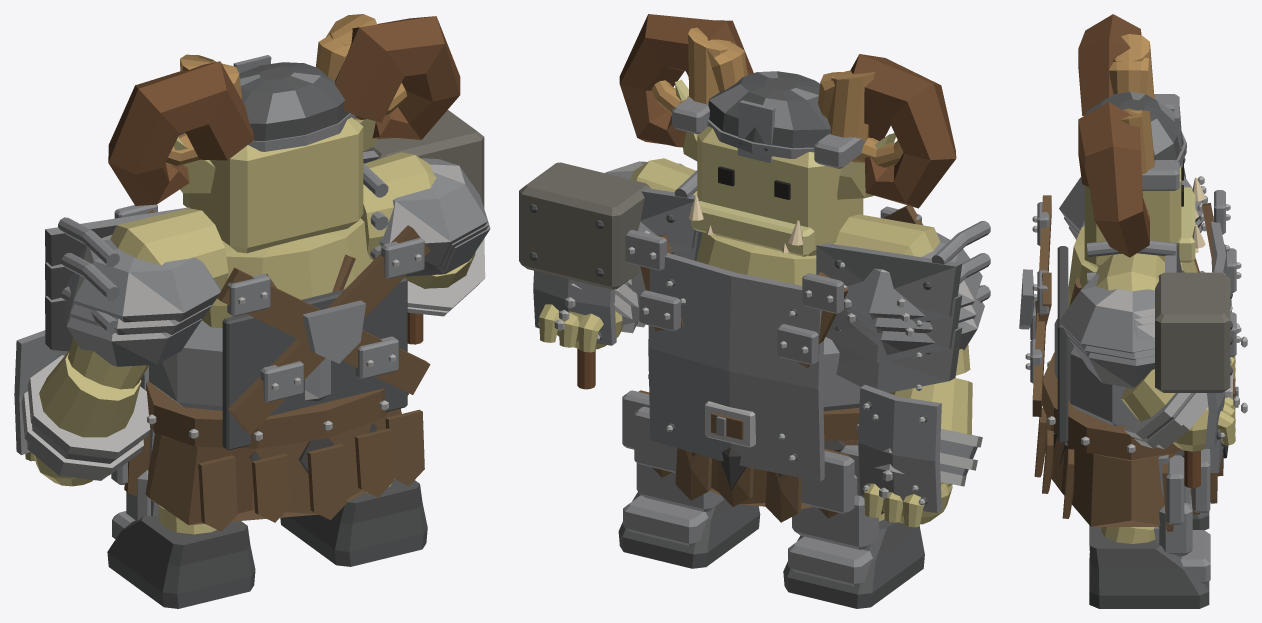
File: host_22.glb
3 views of the same model, side by side, from view 1: azimuth 30°, elevation 25°; view 2: azimuth 150°, elevation 25°; view 3: azimuth 270°, elevation 25° (orthographic). The views are drawn at different scales.
Visible parts, largest first — view 1: Observed face, Actual curled segmented ram horn, Actual curled segmented ram horn.001, Grounded boot L, V6 source contacting small rear armor plate, Connected ragged leather battle skirt, Grounded boot R, Stacked source iron pauldron L, Continuous heavy leather belt, V6 source anatomical upper arm L, V6 source anatomical thorax, V6 source fitted rounded metal cap (+38 smaller); view 2: V6 source curved fitted breastplate, V6 iron ram actual large riveted cuboid metal hammer head, Actual curled segmented ram horn, Observed face, V6 source wrapped wrist armor L, Actual curled segmented ram horn.001, V6 source fitted rounded metal cap, V6 source angled fitted shoulder plate L, Grounded boot L, Grounded boot R, V6 source angled fitted shoulder plate L.002, V6 detail Iron Ram actual curved heavy spiral horn (+40 smaller); view 3: V6 iron ram actual large riveted cuboid metal hammer head, Actual curled segmented ram horn.001, Grounded boot R, Connected ragged leather battle skirt, Stacked source iron pauldron R, Continuous heavy leather belt, Actual curled segmented ram horn, Fitted full iron breast and back armor, Observed face, V6 source fitted rounded metal cap, V6 source contacting small rear armor plate, V6 source anatomical upper arm R (+36 smaller).
Part boxes in pixels (box(x1,y1,x2,y2)): Observed face: box(189, 117, 363, 253); Actual curled segmented ram horn: box(108, 61, 253, 205); Actual curled segmented ram horn.001: box(334, 16, 460, 139); Grounded boot L: box(107, 514, 255, 608); V6 source contacting small rear armor plate: box(222, 277, 407, 450); Connected ragged leather battle skirt: box(145, 408, 401, 525); Grounded boot R: box(280, 479, 427, 566); Stacked source iron pauldron L: box(67, 235, 220, 322); Continuous heavy leather belt: box(146, 380, 408, 448); V6 source anatomical upper arm L: box(68, 208, 228, 389); V6 source anatomical thorax: box(202, 218, 373, 327); V6 source fitted rounded metal cap: box(239, 62, 349, 140); V6 source curved fitted breastplate: box(648, 252, 824, 481); V6 iron ram actual large riveted cuboid metal hammer head: box(519, 162, 650, 289); Actual curled segmented ram horn: box(850, 54, 956, 208); Observed face: box(697, 126, 863, 256); V6 source wrapped wrist armor L: box(858, 384, 941, 512); Actual curled segmented ram horn.001: box(619, 14, 753, 147); V6 source fitted rounded metal cap: box(708, 71, 830, 148); V6 source angled fitted shoulder plate L: box(816, 243, 962, 322); Grounded boot L: box(783, 519, 924, 608); Grounded boot R: box(618, 492, 760, 568); V6 source angled fitted shoulder plate L.002: box(832, 327, 962, 392); V6 detail Iron Ram actual curved heavy spiral horn: box(818, 70, 903, 167); V6 iron ram actual large riveted cuboid metal hammer head: box(1155, 272, 1230, 392); Actual curled segmented ram horn.001: box(1078, 102, 1149, 257); Grounded boot R: box(1089, 525, 1209, 608); Connected ragged leather battle skirt: box(1051, 435, 1190, 526); Stacked source iron pauldron R: box(1059, 274, 1154, 353); Continuous heavy leather belt: box(1042, 352, 1181, 460); Actual curled segmented ram horn: box(1078, 14, 1141, 115); Fitted full iron breast and back armor: box(1054, 318, 1131, 425); Observed face: box(1084, 165, 1181, 268); V6 source fitted rounded metal cap: box(1085, 91, 1183, 160); V6 source contacting small rear armor plate: box(1057, 246, 1068, 442); V6 source anatomical upper arm R: box(1096, 253, 1164, 291).
Bounding box in the file's own units: 1.7 × 1.9 × 0.8196.
